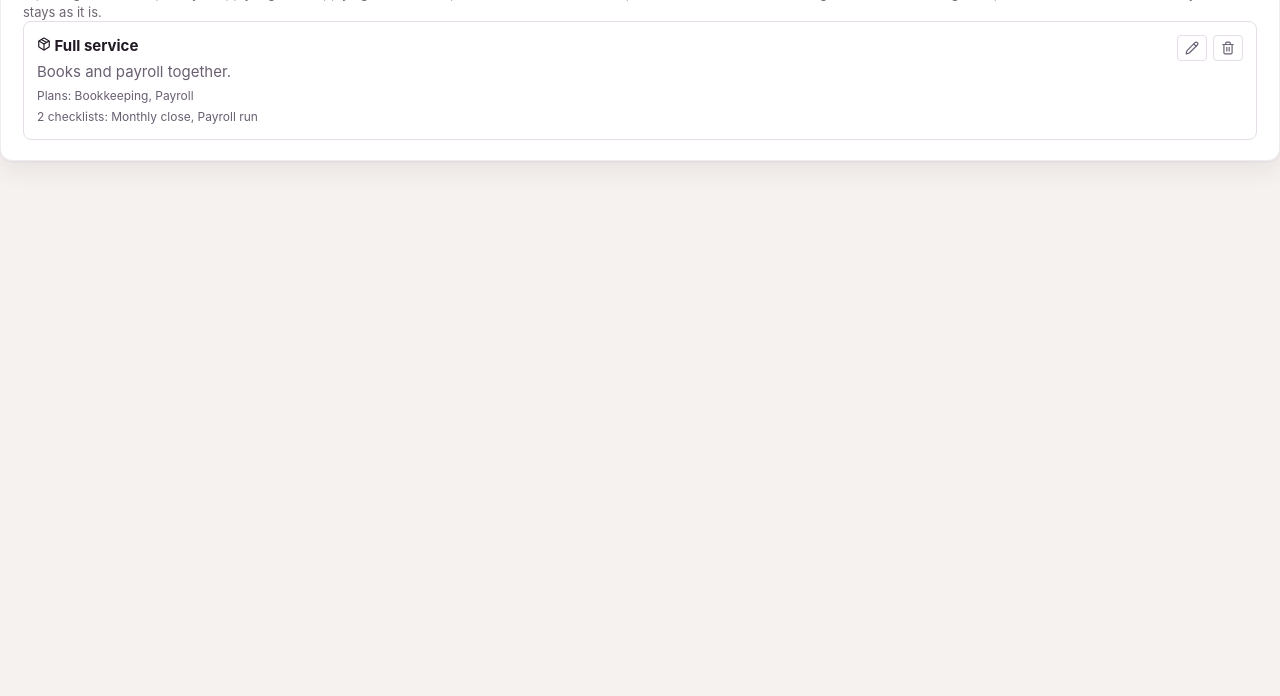
"Suggest checklists" in the package editor › creates exactly the ones she ticked, once she confirms
The width and height of the screenshot is (1280, 696).
Click the button named "Edit Full service".
click(1192, 48)  # box [1177,35,1207,61]
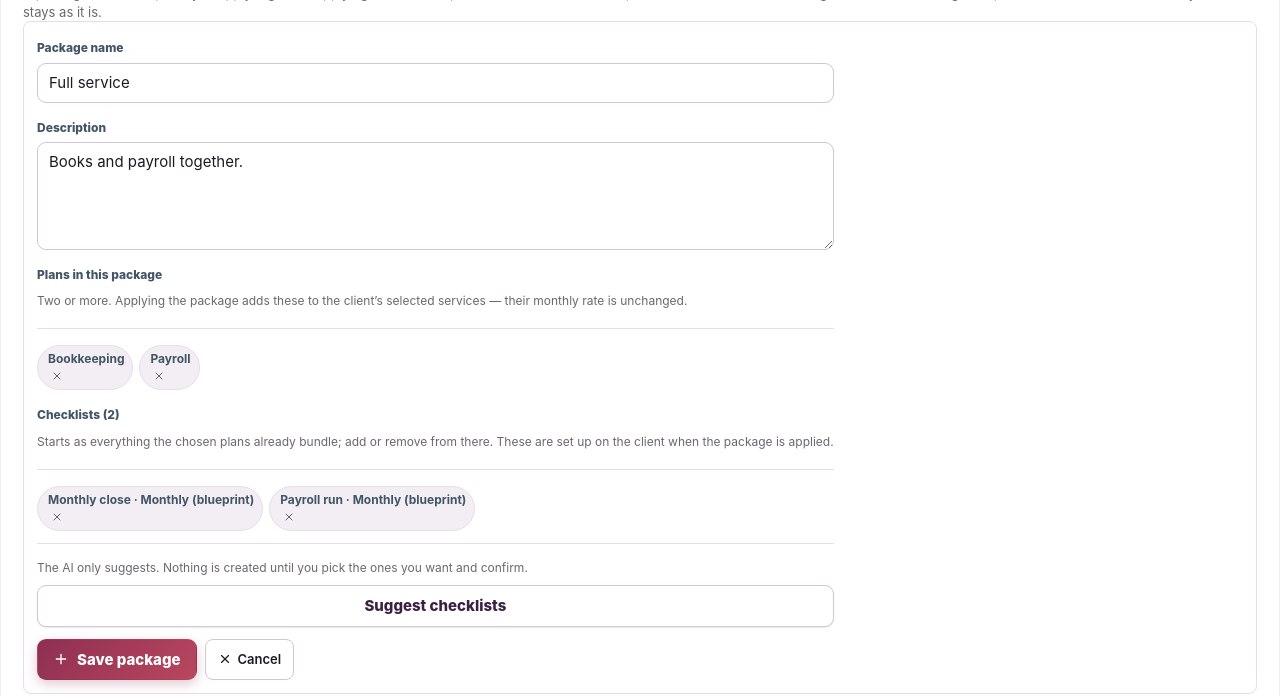
Click the button "Suggest checklists".
click(435, 606)  # box [37,585,834,627]
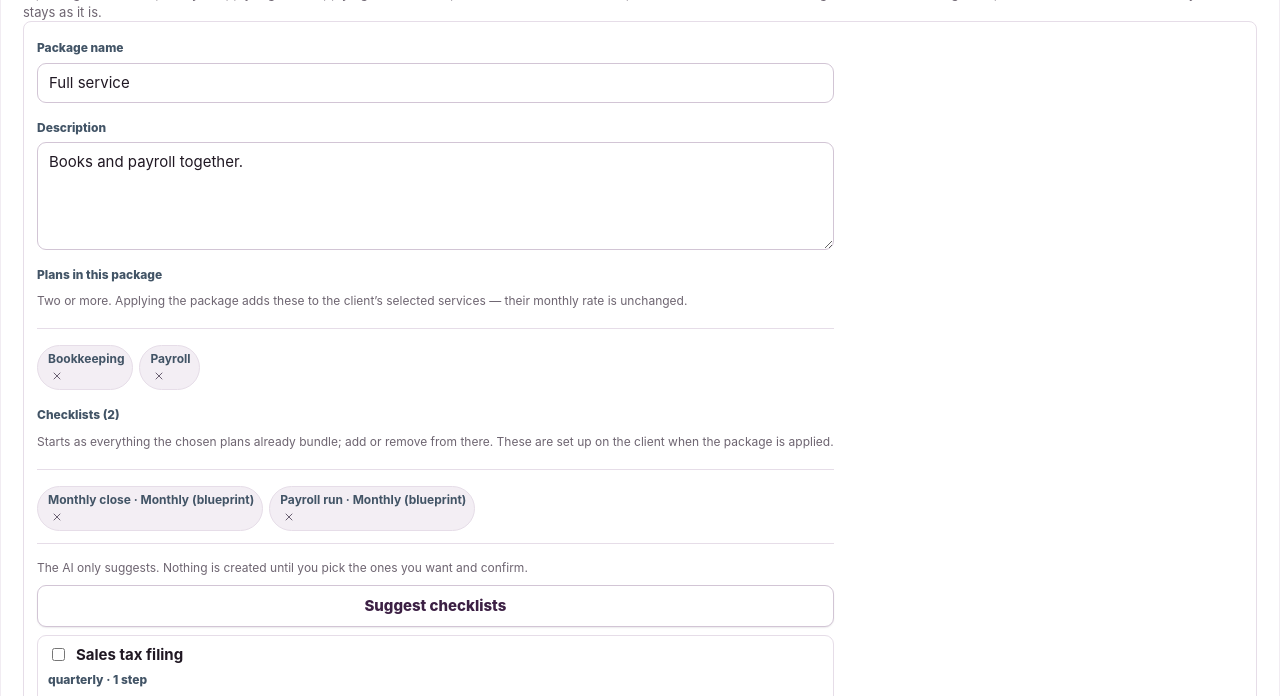
Click the checkbox labelled "Sales tax filing".
click(58, 654)  # box [52,648,65,661]
(page scrolled)
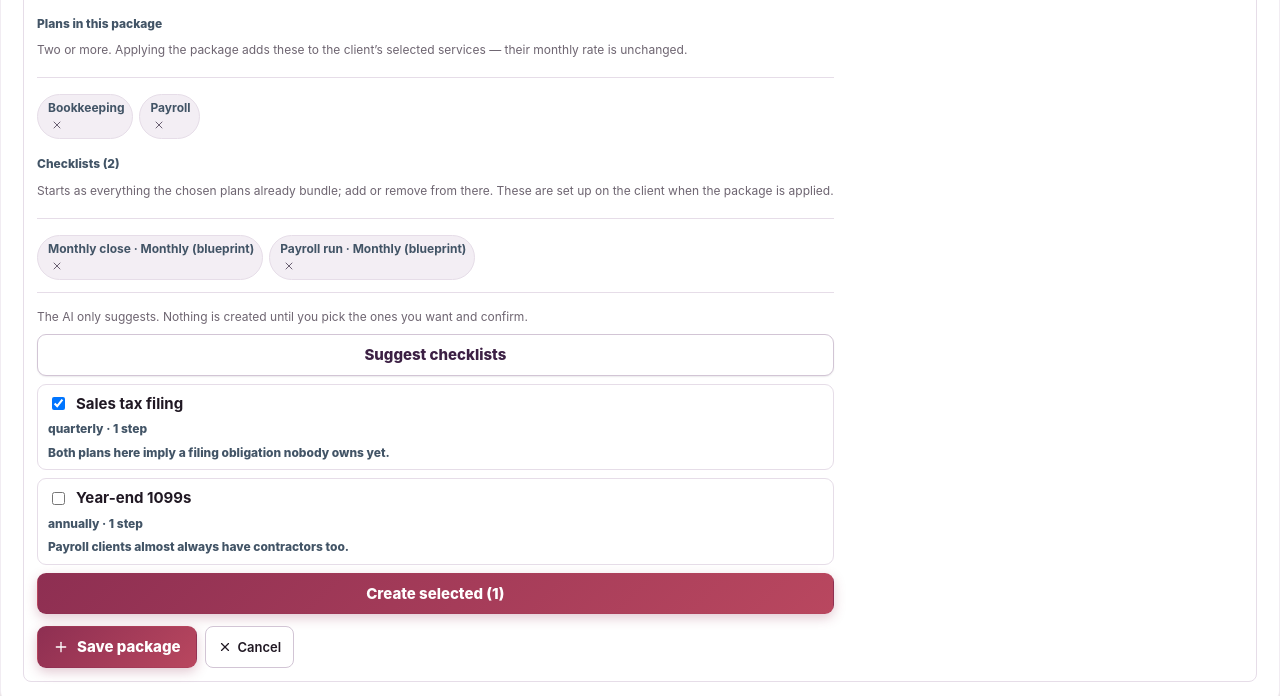
Click the button "Create selected (1)".
click(435, 594)  # box [37,573,834,614]
(page scrolled)
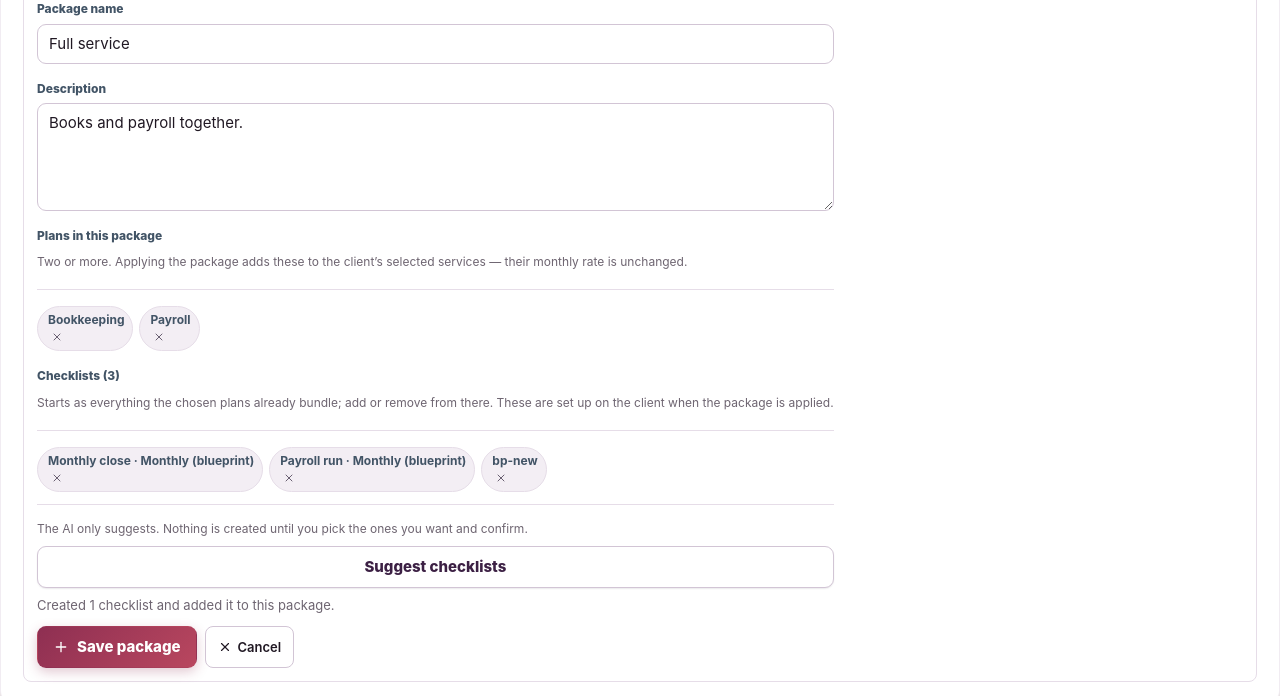
Expected: the text "Created 1 checklist and added it to this package." is shown, [37,597,335,613]
